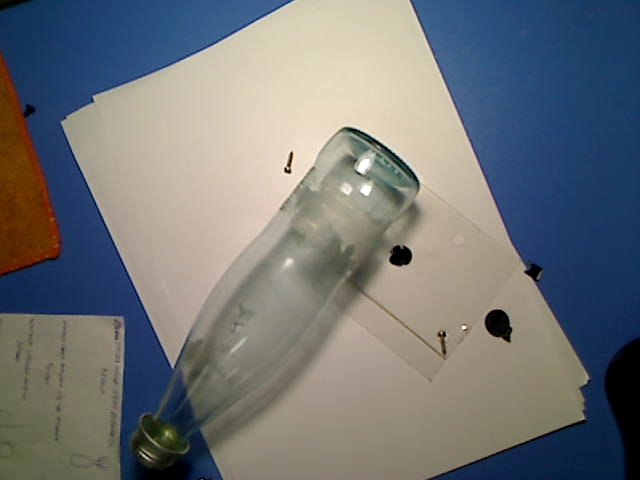bottle: (128, 123, 423, 473)
